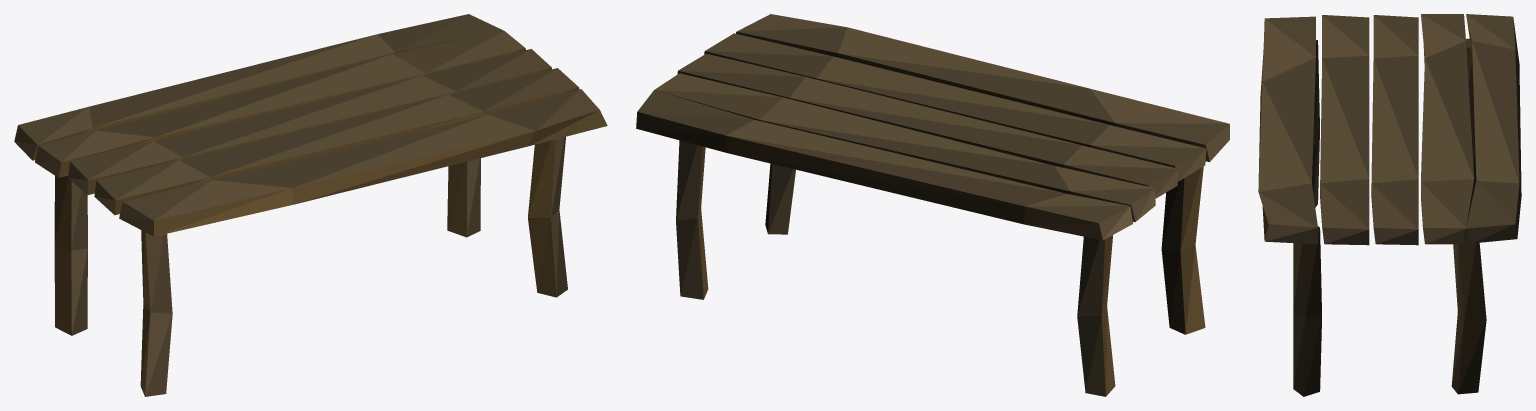
The model's file is table.obj.
3 views of the same model, side by side, from view 1: azimuth 30°, elevation 25°; view 2: azimuth 150°, elevation 25°; view 3: azimuth 270°, elevation 25° (orthographic). The views are drawn at different scales.
Parts seen in each view (by area): view 1: Object Large table 2026-09-12_20-24-38; view 2: Object Large table 2026-09-12_20-24-38; view 3: Object Large table 2026-09-12_20-24-38.
Boxes of the visible parts, x1,y1,x2,y2 form: Object Large table 2026-09-12_20-24-38: (14,14,607,396); Object Large table 2026-09-12_20-24-38: (636,14,1229,396); Object Large table 2026-09-12_20-24-38: (1258,14,1521,396).
Size of the model in its own units: 251 by 96 by 128.
